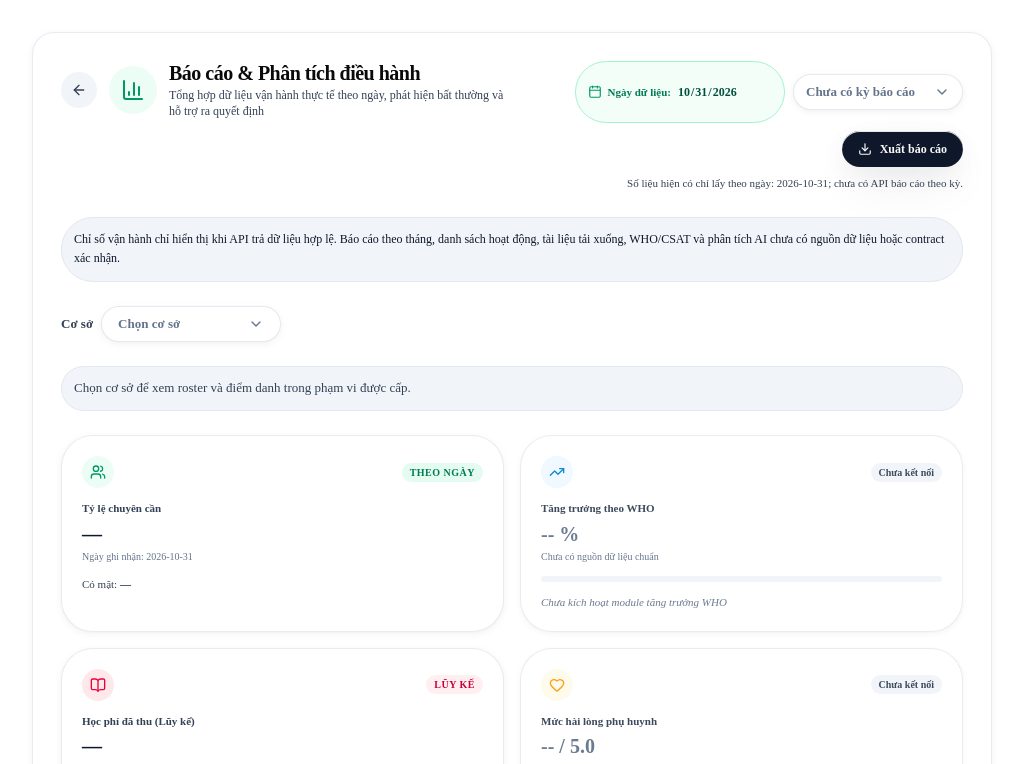
Test: requires a branch choice and fetches only the selected branch
Expected: the text "Chọn cơ sở để xem roster và điểm danh trong phạm vi được cấp." is shown, [61,366,963,411]
Select "Cơ sở B" in the dropdown named "Chọn cơ sở báo cáo". click: (171, 324)
box: [61,306,281,342]
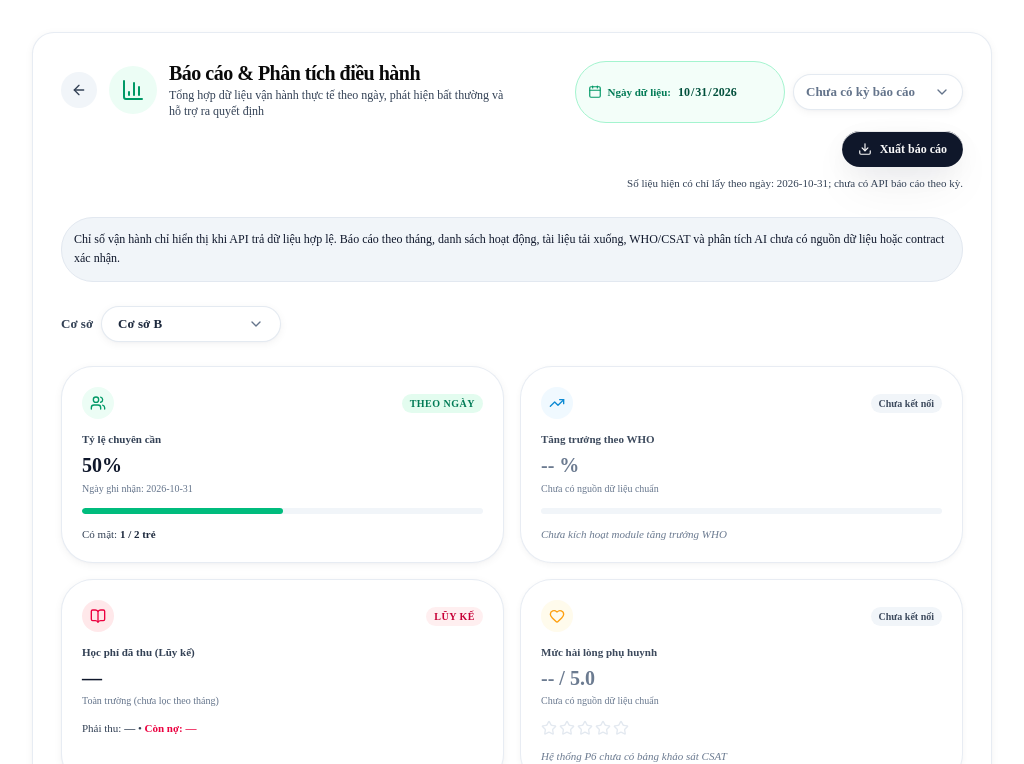
Expected: the text "—" below "Học phí đã thu (Lũy kế)" is shown, [82,667,102,689]
Expected: the text "1 / 2 trẻ" is shown, [120,528,156,540]
